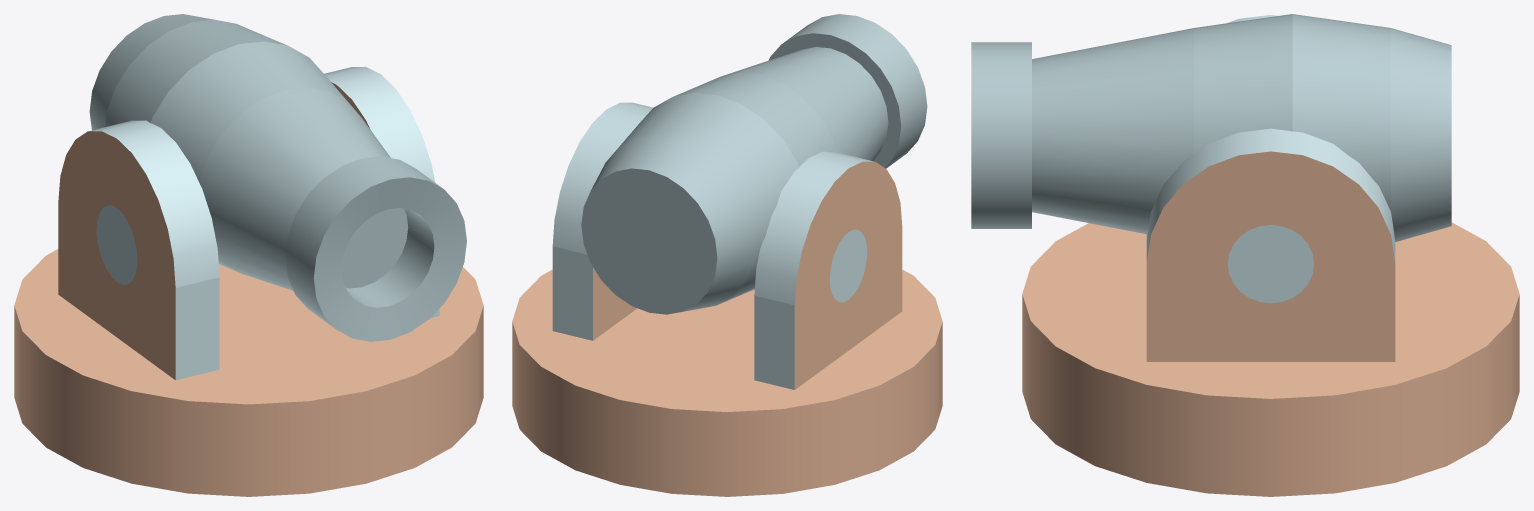
File: weapon_cannon.glb
3 views of the same model, side by side, from view 1: azimuth 30°, elevation 25°; view 2: azimuth 150°, elevation 25°; view 3: azimuth 270°, elevation 25° (orthographic). The views are drawn at different scales.
Parts seen in each view (by area): view 1: weapon_cannon, cannon; view 2: weapon_cannon, cannon; view 3: weapon_cannon, cannon.
Part boxes in pixels (x1,y1,x2,y2): weapon_cannon: (14,66,483,496); cannon: (89,14,466,341); weapon_cannon: (512,102,942,496); cannon: (581,14,927,314); weapon_cannon: (1022,15,1519,496); cannon: (971,14,1451,241).
Size of the model in its own units: 0.4598 by 0.3743 by 0.507.
